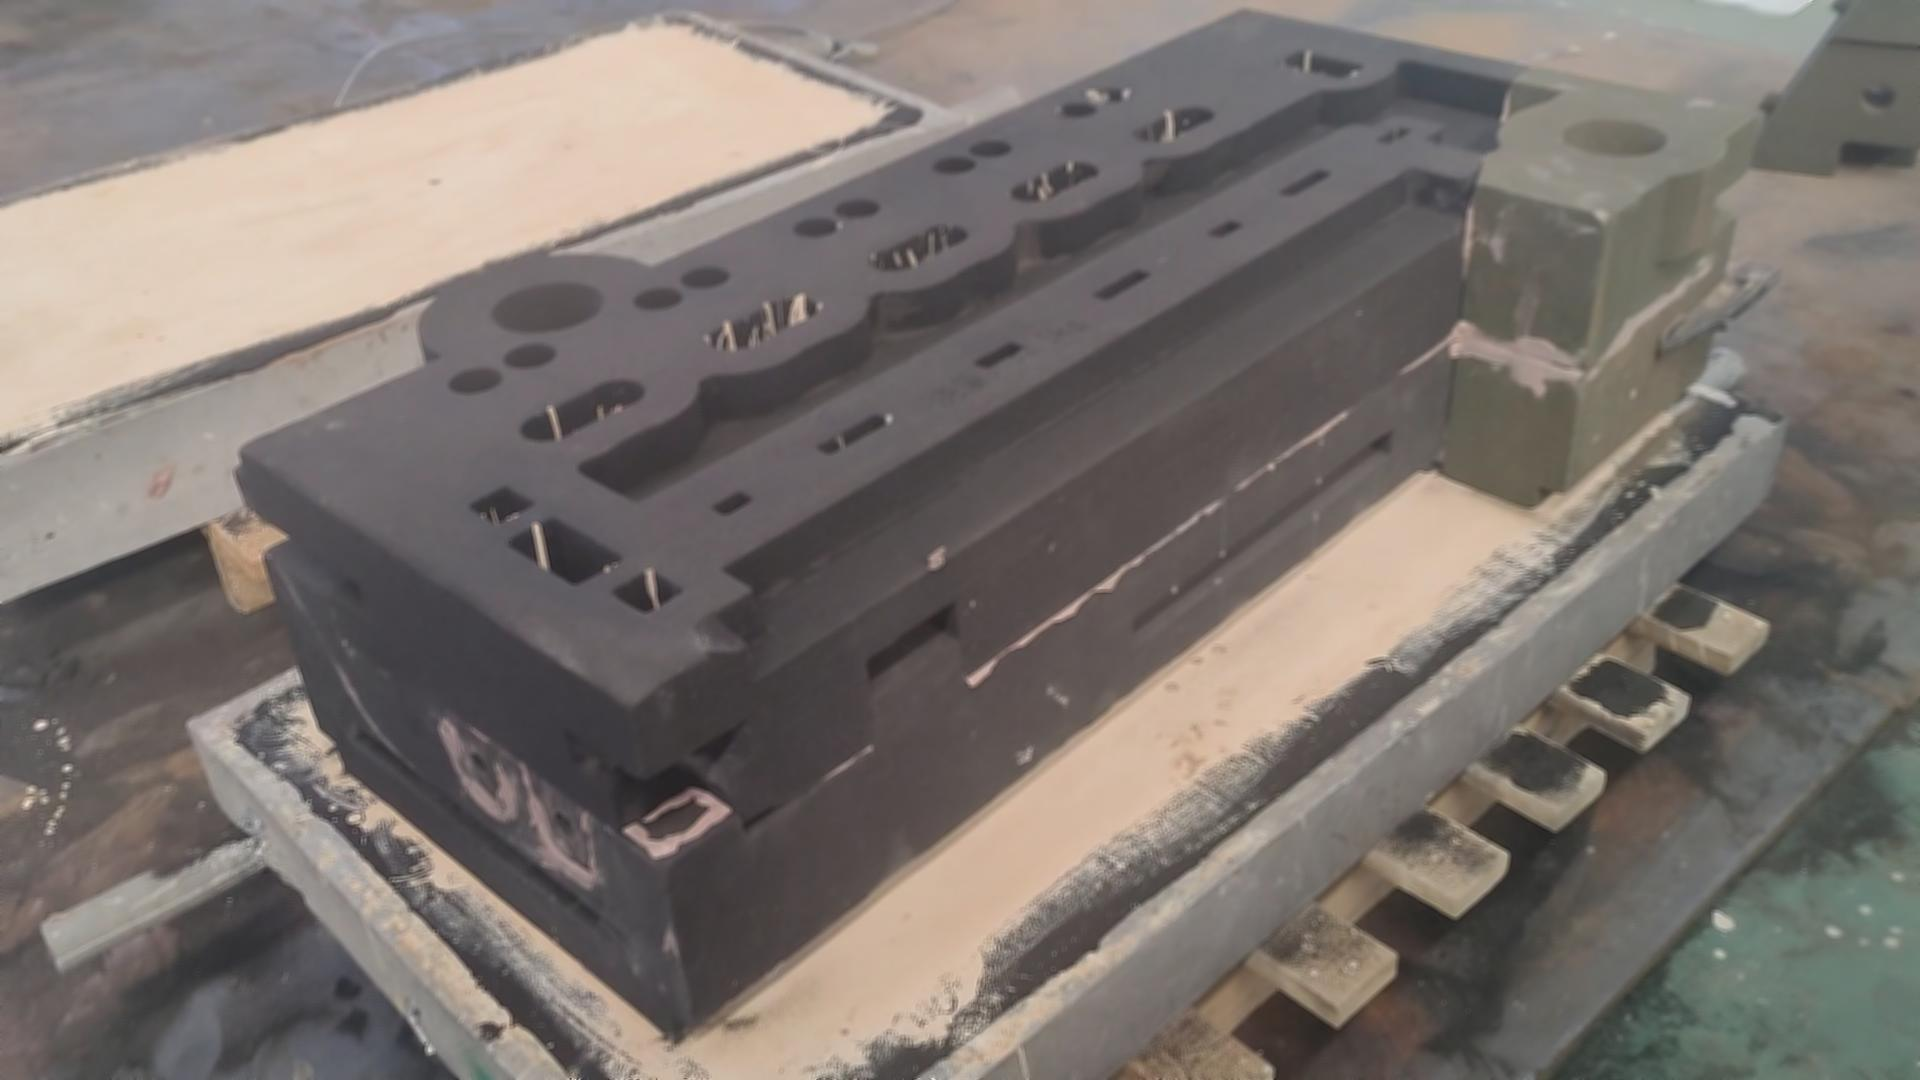pouring hole: (491, 281, 605, 334), (1563, 120, 1668, 156)
